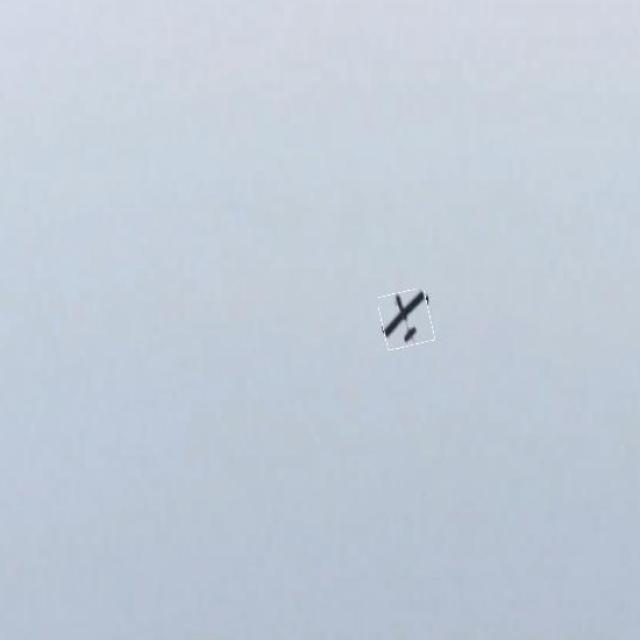plane: (377, 288, 435, 350)
